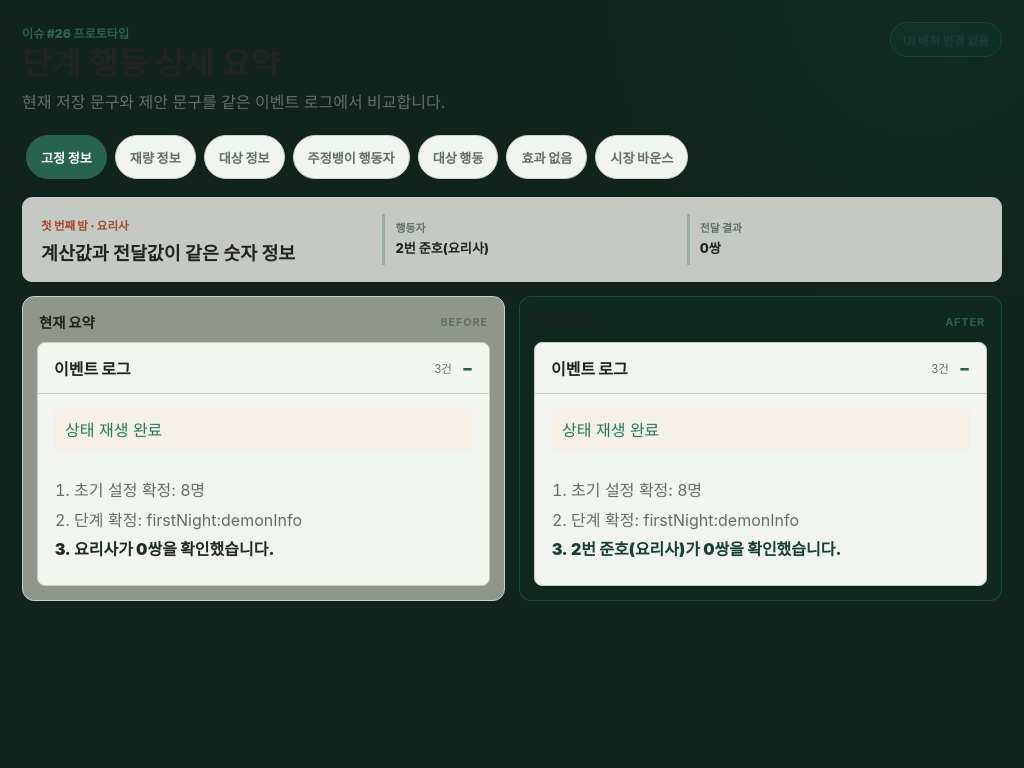
Test case: switches between information, targeting, drunk, and mayor-bounce examples
Click the button "대상 정보": (244, 157) [204, 135, 285, 179]
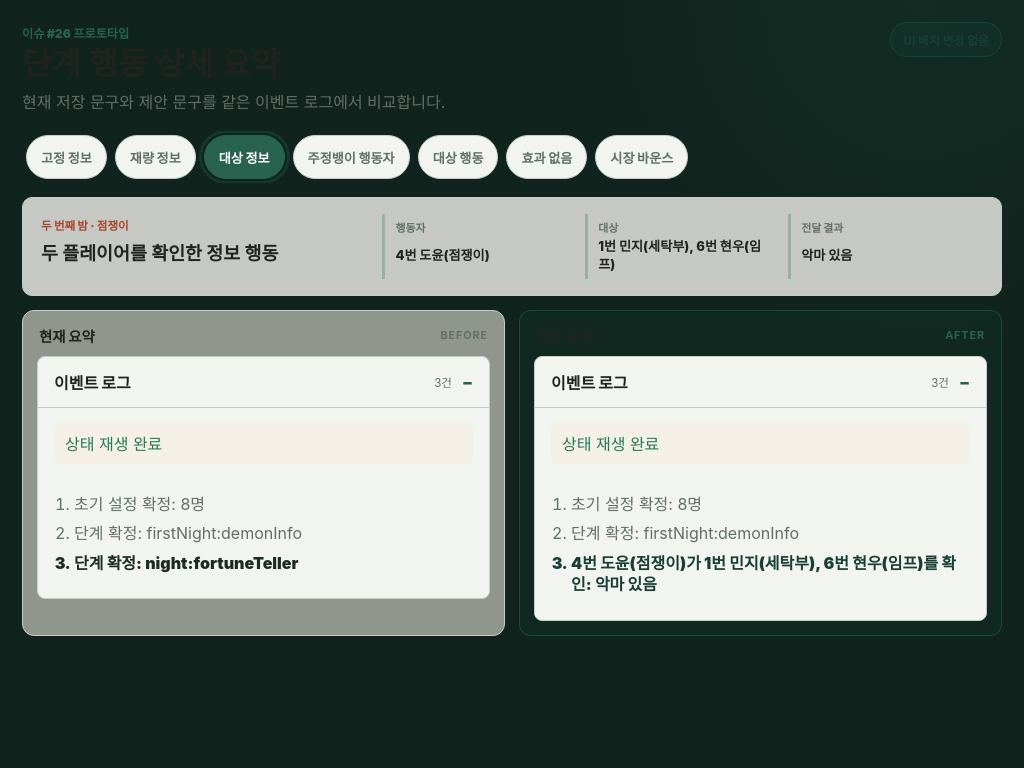
Now the list item "4번 도윤(점쟁이)가 1번 민지(세탁부), 6번 현우(임프)를 확인: 악마 있음" is shown, box [571, 553, 970, 596]
Click the button "주정뱅이 행동자": (351, 157) [293, 135, 410, 179]
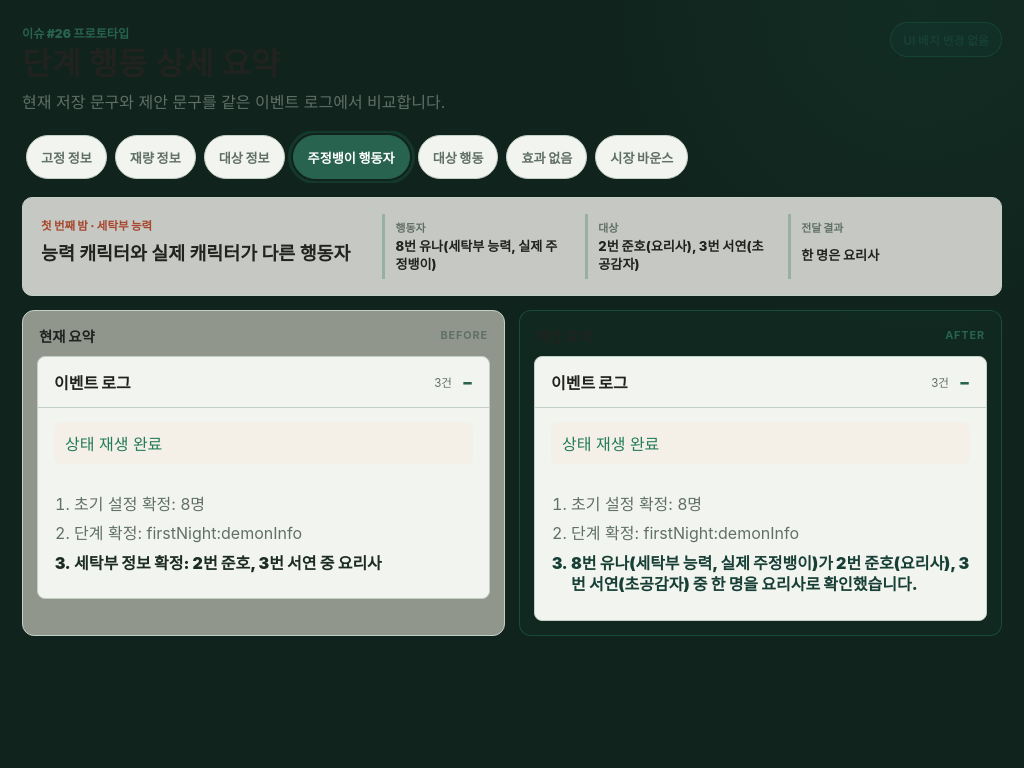
Now the list item "8번 유나(세탁부 능력, 실제 주정뱅이)가 2번 준호(요리사), 3번 서연(초공감자) 중 한 명을 요리사로 확인했습니다." is shown, box [571, 553, 970, 596]
Click the button "시장 바운스": (642, 157) [595, 135, 688, 179]
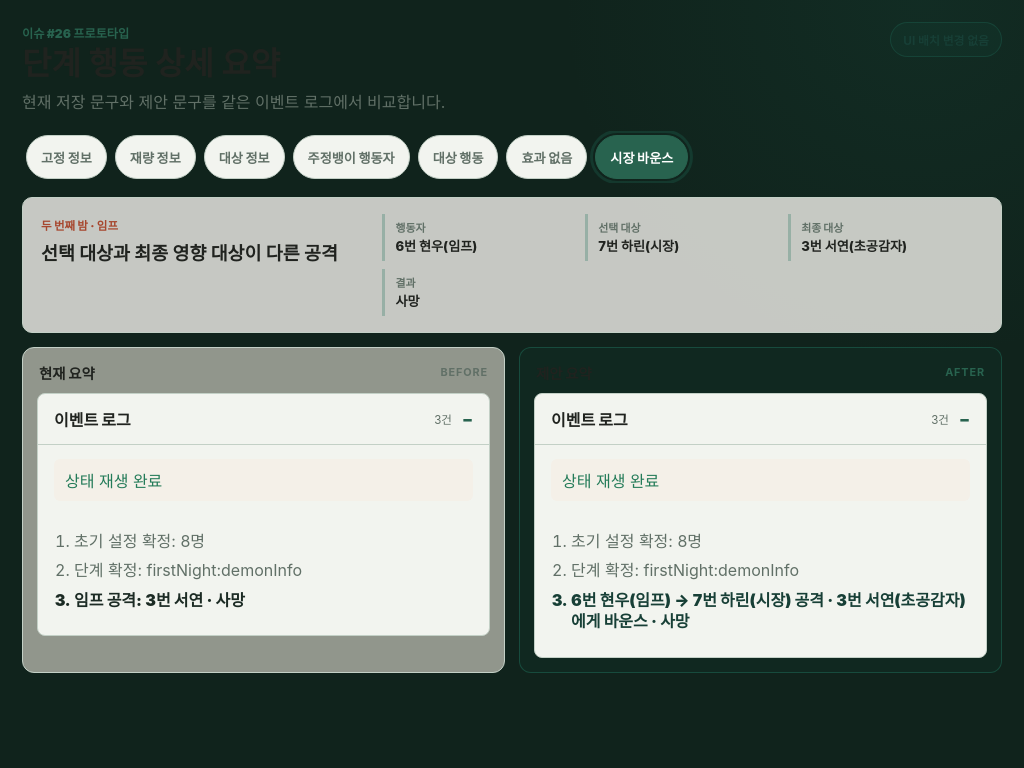
Now the list item "6번 현우(임프) → 7번 하린(시장) 공격 · 3번 서연(초공감자)에게 바운스 · 사망" is shown, box [571, 590, 970, 633]
